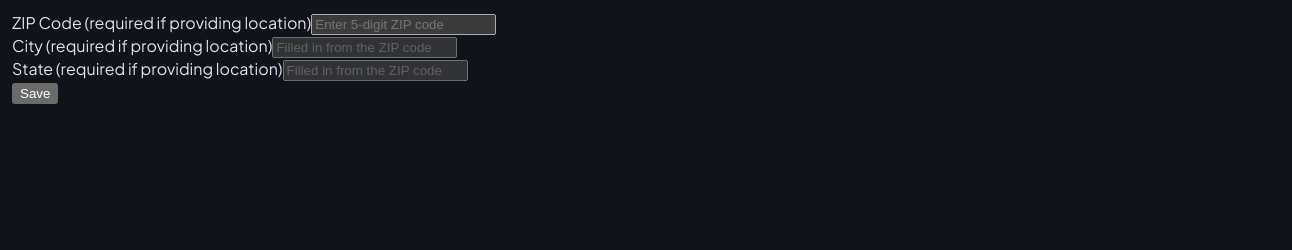
Test: LocationFields › looks up a new ZIP code when it changes
Type "27601" into the field labelled "ZIP Code (required if providing location)" at (404, 24), box [311,14,496,35]
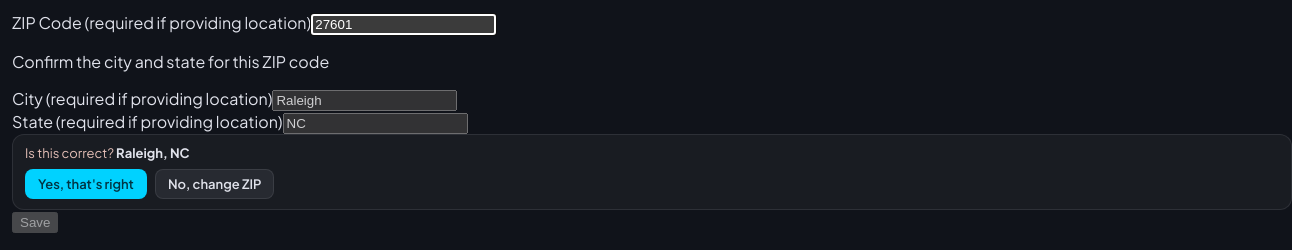
Click the button "Yes, that's right" at (86, 184), box [25,169,147,199]
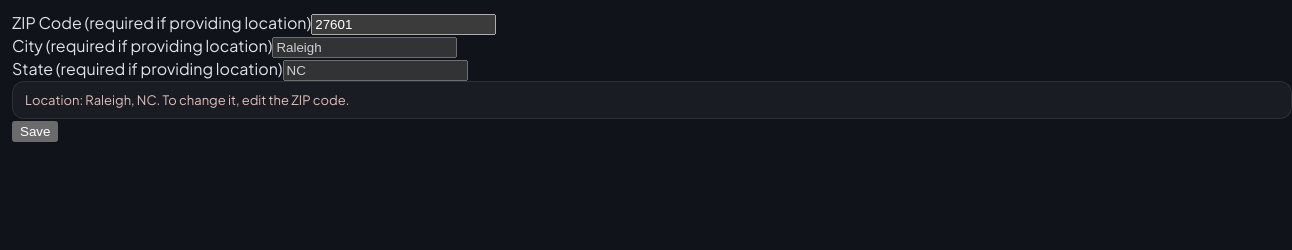
Replace the text in the field labelled "ZIP Code (required if providing location)" with "27703" at (404, 24), box [311,14,496,35]
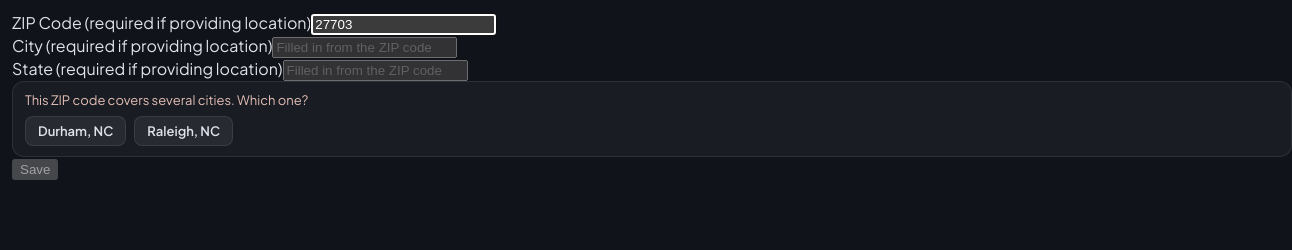
Click the button "Durham, NC" at (76, 131), box [25,116,126,146]
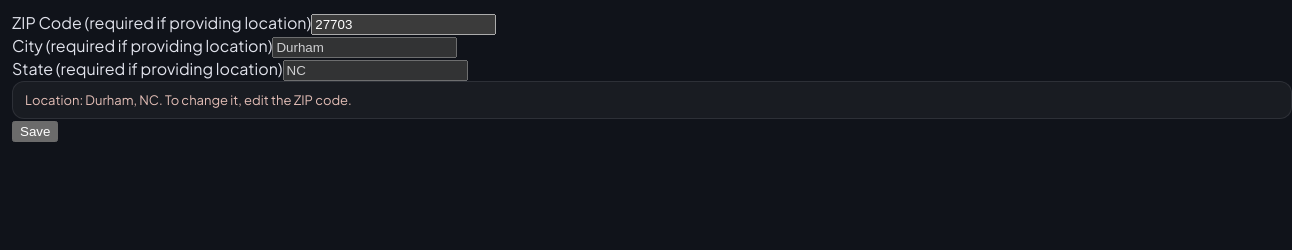
Expected: the field labelled "City (required if providing location)" holds "Durham", [272,37,457,58]
